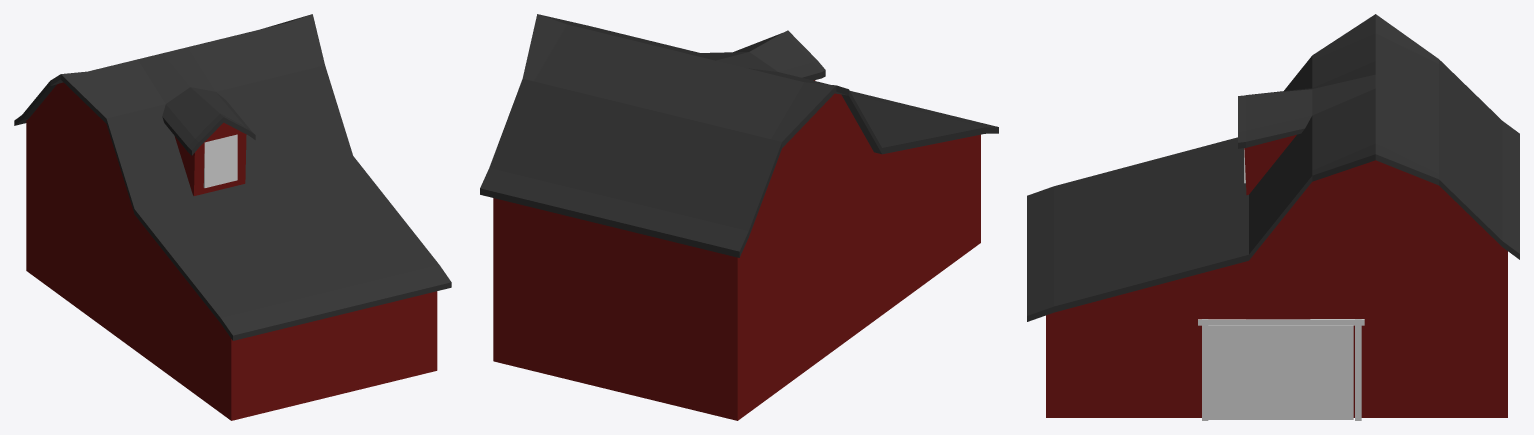
Rendered from Barn.fbx.
3 views of the same model, side by side, from view 1: azimuth 30°, elevation 25°; view 2: azimuth 150°, elevation 25°; view 3: azimuth 270°, elevation 25° (orthographic). The views are drawn at different scales.
Visible parts, largest first — view 1: roof, Cube, Cube.002; view 2: Cube, roof, panls.003; view 3: Cube, roof, Cube.001, Cube.004, Cube.003, Cube.005.
Boxes of the visible parts, x1=… form: roof: x1=14, y1=14, x2=451, y2=340; Cube: x1=26, y1=82, x2=435, y2=420; Cube.002: x1=203, y1=134, x2=237, y2=187; Cube: x1=493, y1=80, x2=980, y2=420; roof: x1=480, y1=14, x2=998, y2=257; panls.003: x1=737, y1=143, x2=928, y2=379; Cube: x1=1046, y1=135, x2=1507, y2=417; roof: x1=1027, y1=14, x2=1519, y2=321; Cube.001: x1=1208, y1=325, x2=1353, y2=419; Cube.004: x1=1198, y1=319, x2=1364, y2=325; Cube.003: x1=1202, y1=319, x2=1208, y2=420; Cube.005: x1=1355, y1=319, x2=1361, y2=420.
Size of the model in its own units: 453 by 426 by 680.
